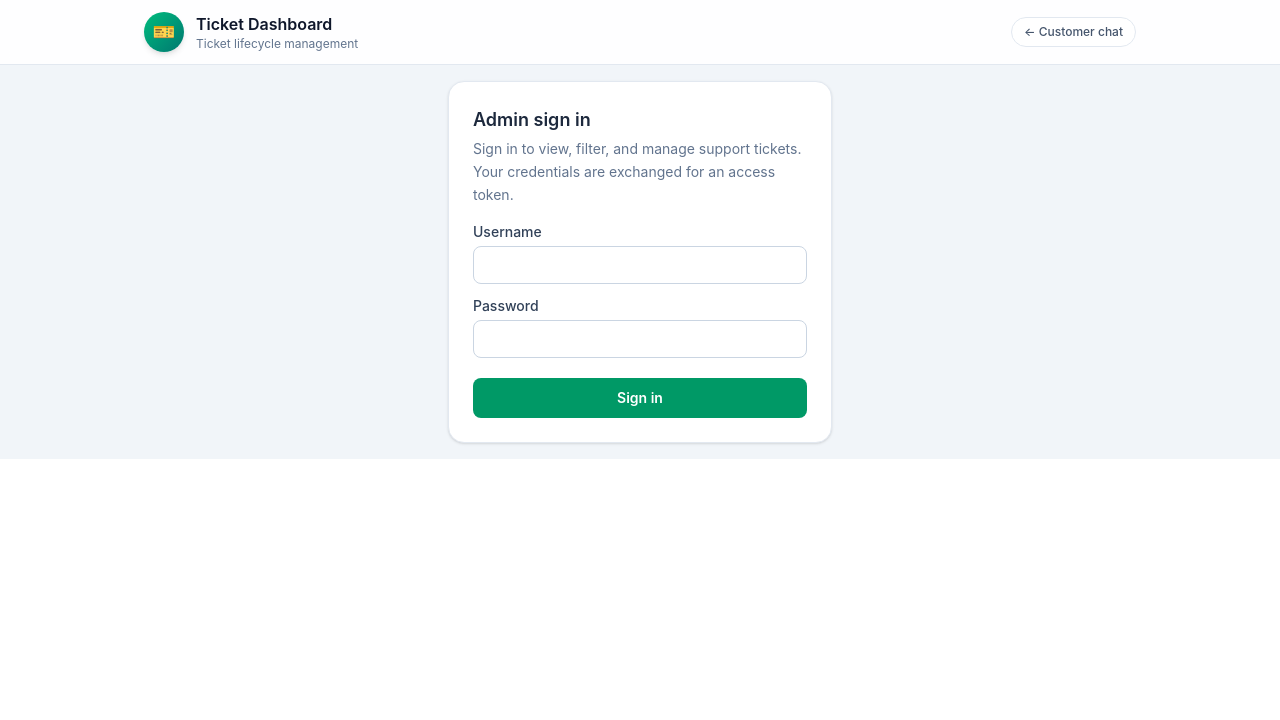
Test: TicketDashboard › returns to the sign-in gate when a request hits a 401
The width and height of the screenshot is (1280, 720).
Type "admin" into the field labelled "Username" at (640, 265), box [473,246,807,284]
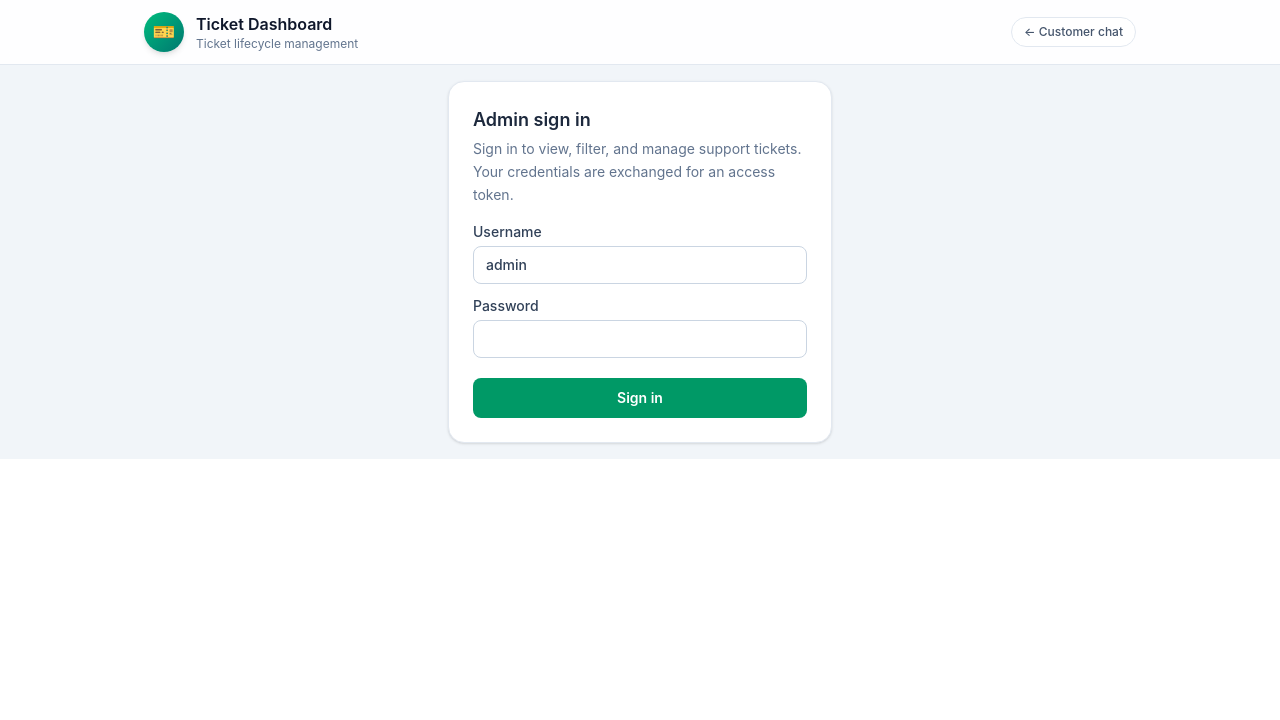
Type "admin123" into the password field labelled "Password" at (640, 339), box [473,320,807,358]
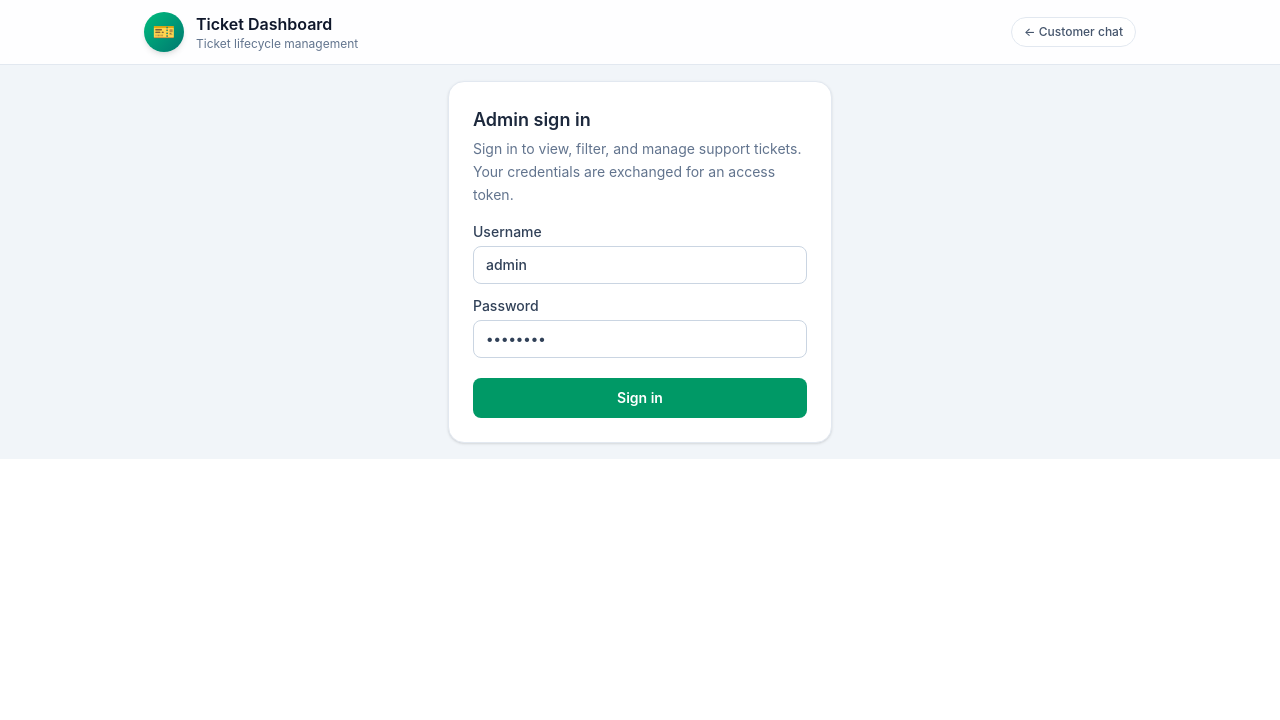
Submit the form, box [448,81,832,443]
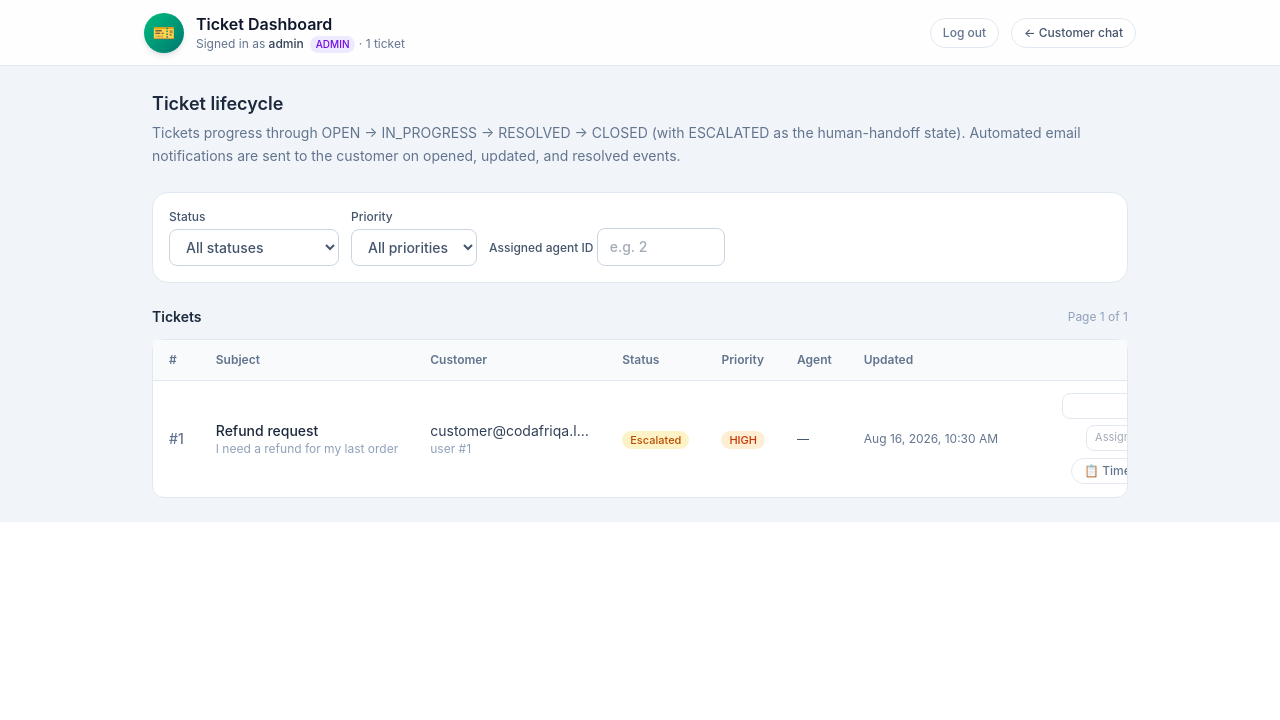
Select "Open" in the dropdown with test id "filter-status" at (254, 247), box [169,229,339,266]
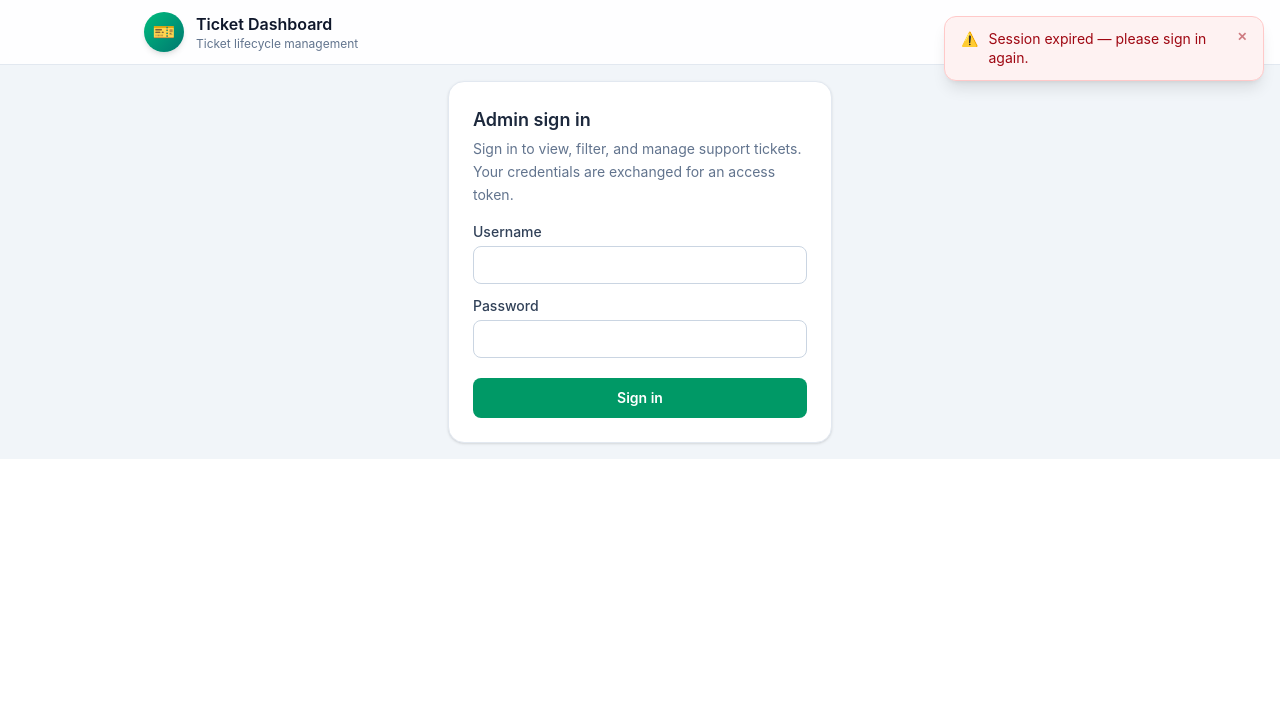
Result: the text "Admin sign in" is shown at [473,109,591,130]
Result: the text "Session expired" is shown at [988,30,1206,66]
